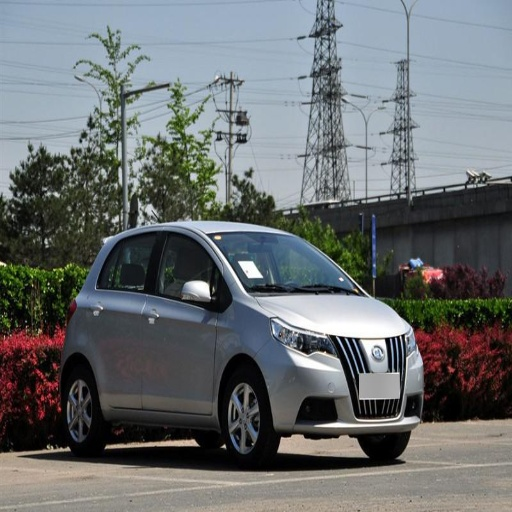front_bumper: (265, 330, 423, 434)
front_right_door: (142, 231, 226, 414)
front_right_light: (272, 319, 333, 354)
